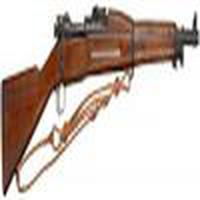gun: (3, 8, 200, 148)
